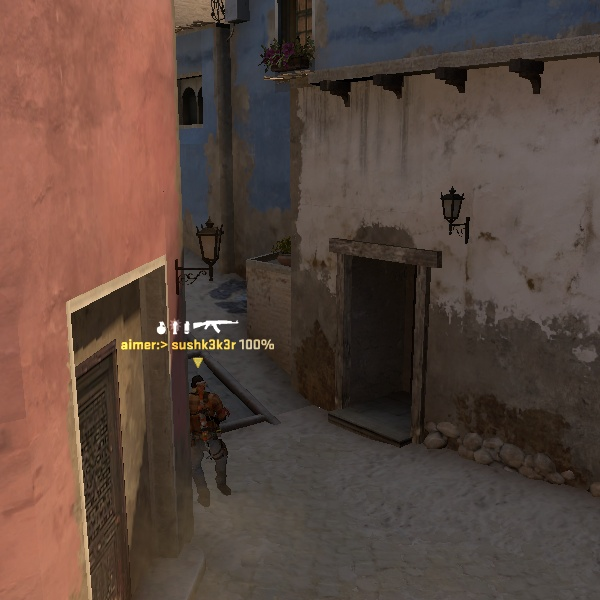t_body: (182, 369, 243, 501)
t_head: (187, 369, 214, 400)
